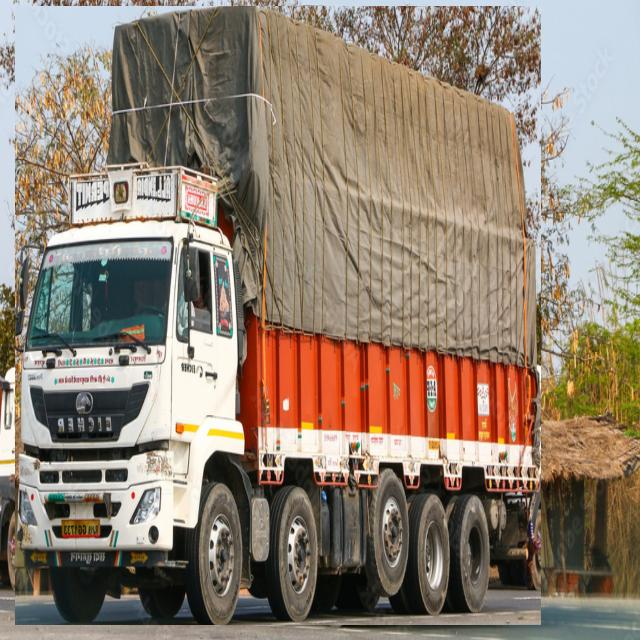truck: (15, 6, 541, 625)
